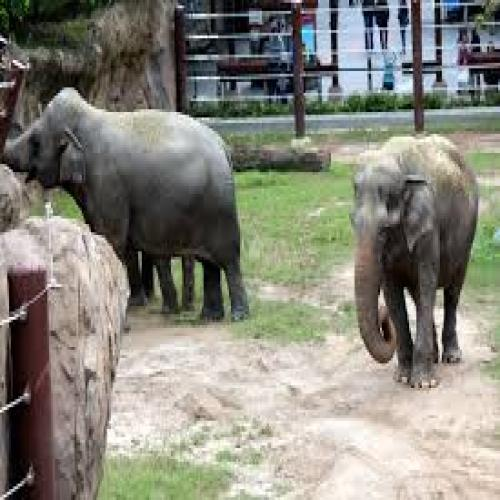asian_elephant-endangered: (4, 83, 250, 322), (349, 134, 479, 392)
